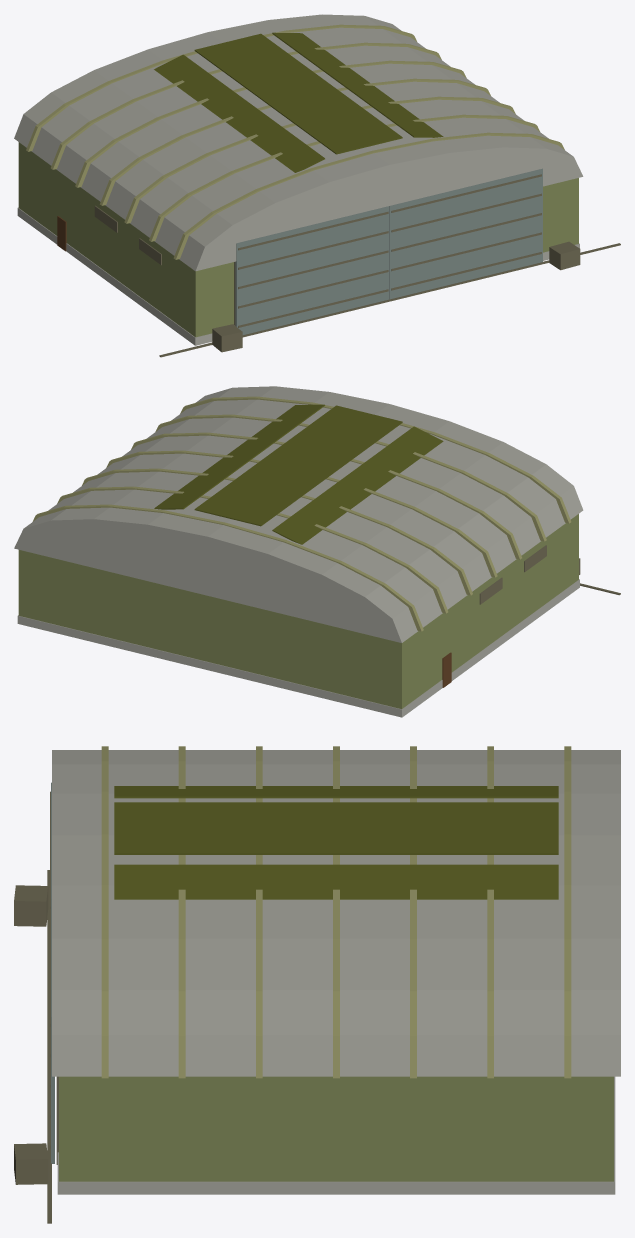
File: SM_Hangar_v4_LOD0.fbx
3 views of the same model, one above another, from view 1: azimuth 30°, elevation 25°; view 2: azimuth 150°, elevation 25°; view 3: azimuth 270°, elevation 25° (orthographic). The views are drawn at different scales.
Parts seen in each view (by area): view 1: SM_hangar_v4_LOD0, Porton_O, Porton_E; view 2: SM_hangar_v4_LOD0; view 3: SM_hangar_v4_LOD0, Porton_E.
Part boxes in pixels (<box>): SM_hangar_v4_LOD0: <box>14,14,620,357</box>; Porton_O: <box>235,206,389,334</box>; Porton_E: <box>389,168,542,299</box>; SM_hangar_v4_LOD0: <box>14,386,620,717</box>; SM_hangar_v4_LOD0: <box>14,746,620,1223</box>; Porton_E: <box>50,900,54,1163</box>.
Size of the model in its own units: 36 by 10.49 by 26.24.
